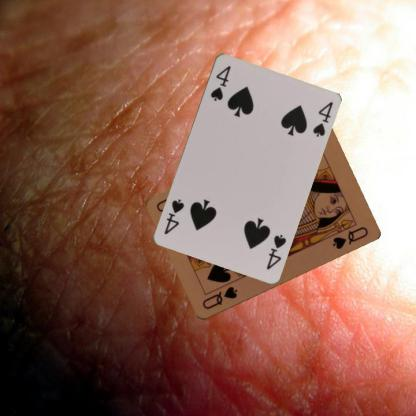4s: (263, 231, 288, 271), (208, 62, 232, 102)
Qs: (199, 284, 239, 312)
